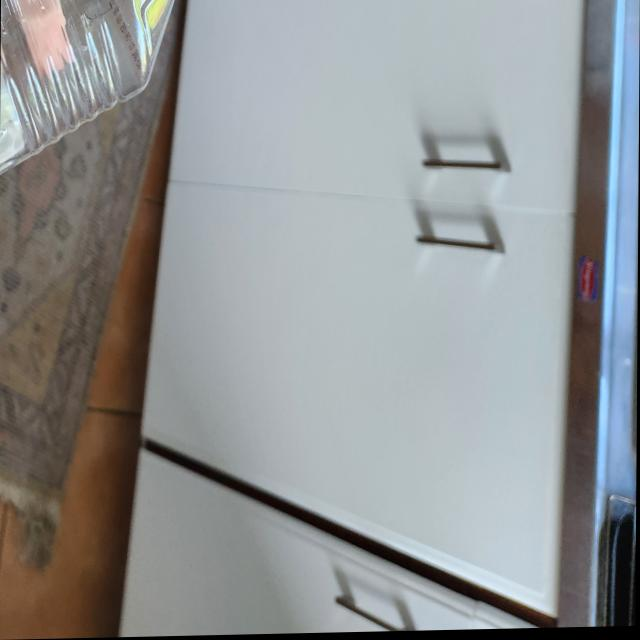vegetable oil: (0, 0, 244, 346)
